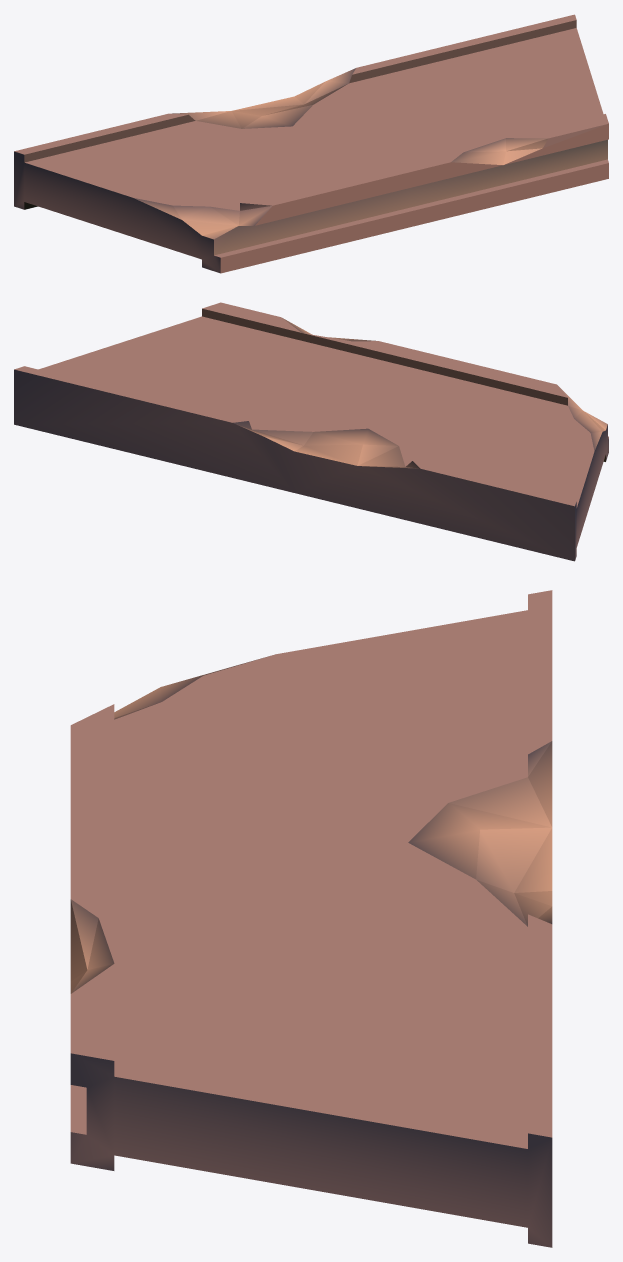
File: TowerPlatform.gltf
The picture shows the model from 3 angles, top to bottom: view 1: azimuth 30°, elevation 25°; view 2: azimuth 150°, elevation 25°; view 3: azimuth 270°, elevation 25°; orthographic projection. The views are drawn at different scales.
Parts seen in each view (by area): view 1: TowerPlatformMesh; view 2: TowerPlatformMesh; view 3: TowerPlatformMesh.
Part boxes in pixels (bbox=[...]): TowerPlatformMesh: bbox=[14, 14, 608, 273]; TowerPlatformMesh: bbox=[14, 302, 608, 561]; TowerPlatformMesh: bbox=[70, 590, 552, 1247].
Size of what is drawn, in the model's own units: 7.46 by 0.7 by 2.77.
